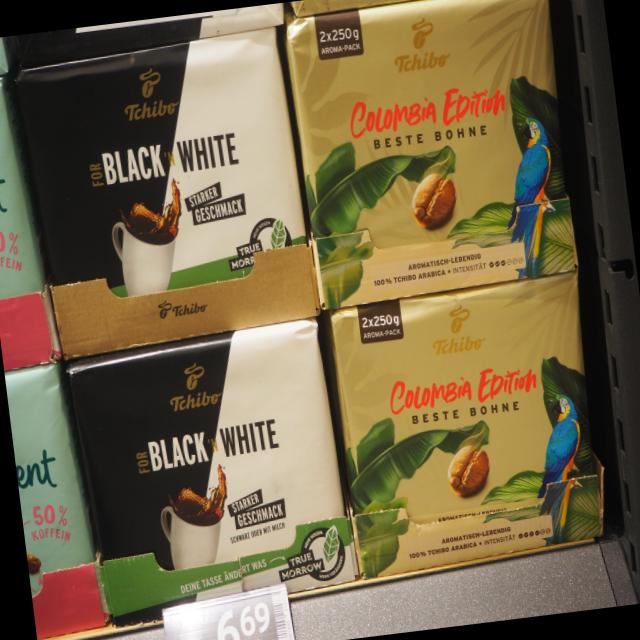BW Gemahlen: (12, 21, 321, 363), (63, 317, 359, 630)
Colombia BB Gemahlen: (282, 0, 587, 312), (324, 270, 605, 582)
